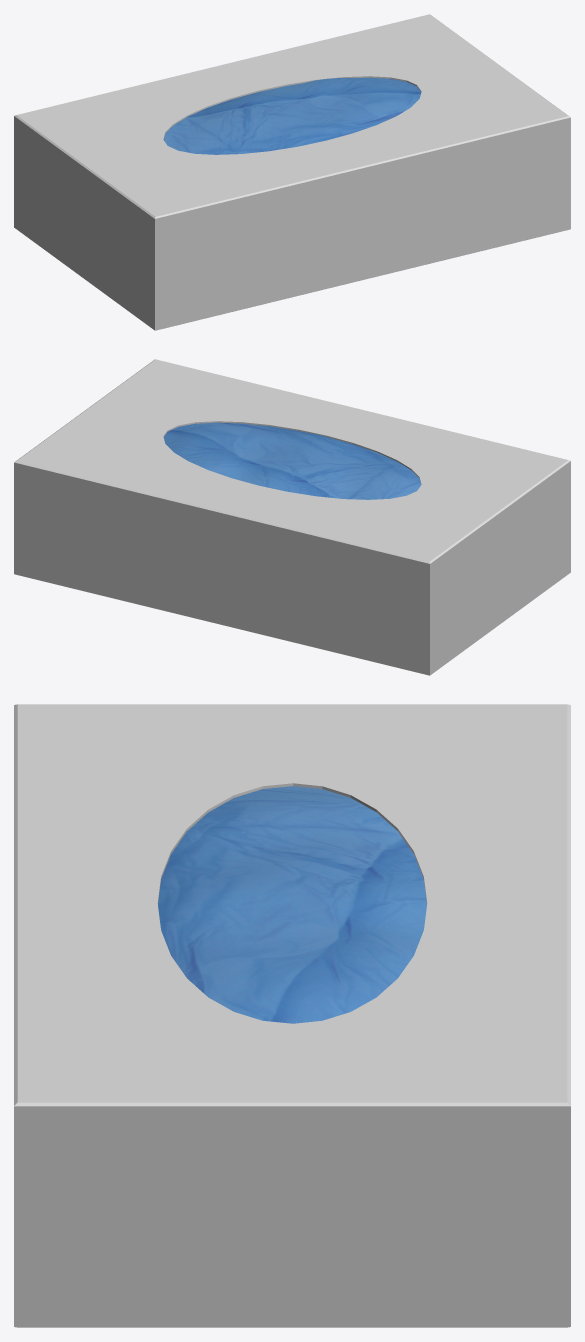
File: glovebox.fbx
3 views of the same model, one above another, from view 1: azimuth 30°, elevation 25°; view 2: azimuth 150°, elevation 25°; view 3: azimuth 270°, elevation 25° (orthographic). The views are drawn at different scales.
Parts seen in each view (by area): view 1: glove_box, gloves; view 2: glove_box, gloves; view 3: glove_box, gloves.
Boxes of the visible parts, <box> form: glove_box: <box>14,14,570,330</box>; gloves: <box>163,77,421,154</box>; glove_box: <box>14,359,570,675</box>; gloves: <box>163,422,421,499</box>; glove_box: <box>14,704,570,1327</box>; gloves: <box>158,786,426,1023</box>.
Size of the model in its own units: 216 by 58.32 by 126.
